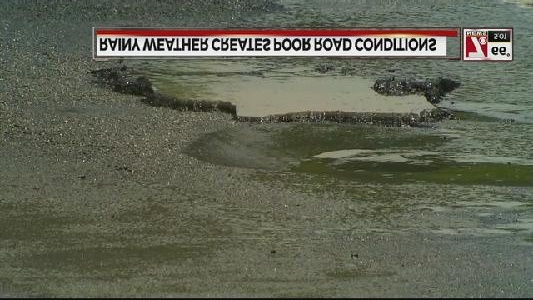pothole: (92, 57, 462, 128)
